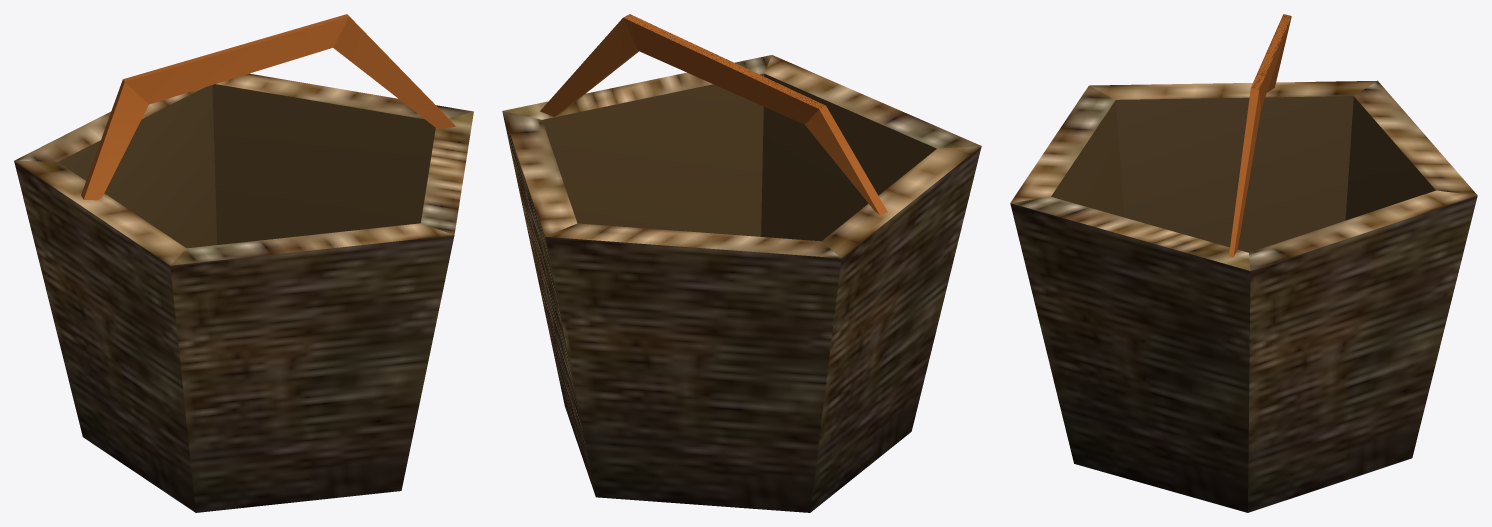
File: basket.fbx
3 renders of one model, left to right at view 1: azimuth 30°, elevation 25°; view 2: azimuth 150°, elevation 25°; view 3: azimuth 270°, elevation 25°, orthographic. The views are drawn at different scales.
Parts seen in each view (by area): view 1: basket; view 2: basket; view 3: basket.
Boxes of the visible parts, x1,y1,x2,y2 form: basket: (14, 14, 473, 512); basket: (502, 14, 981, 512); basket: (1010, 14, 1477, 512).
Bounding box in the file's own units: 136 × 131 × 141.
